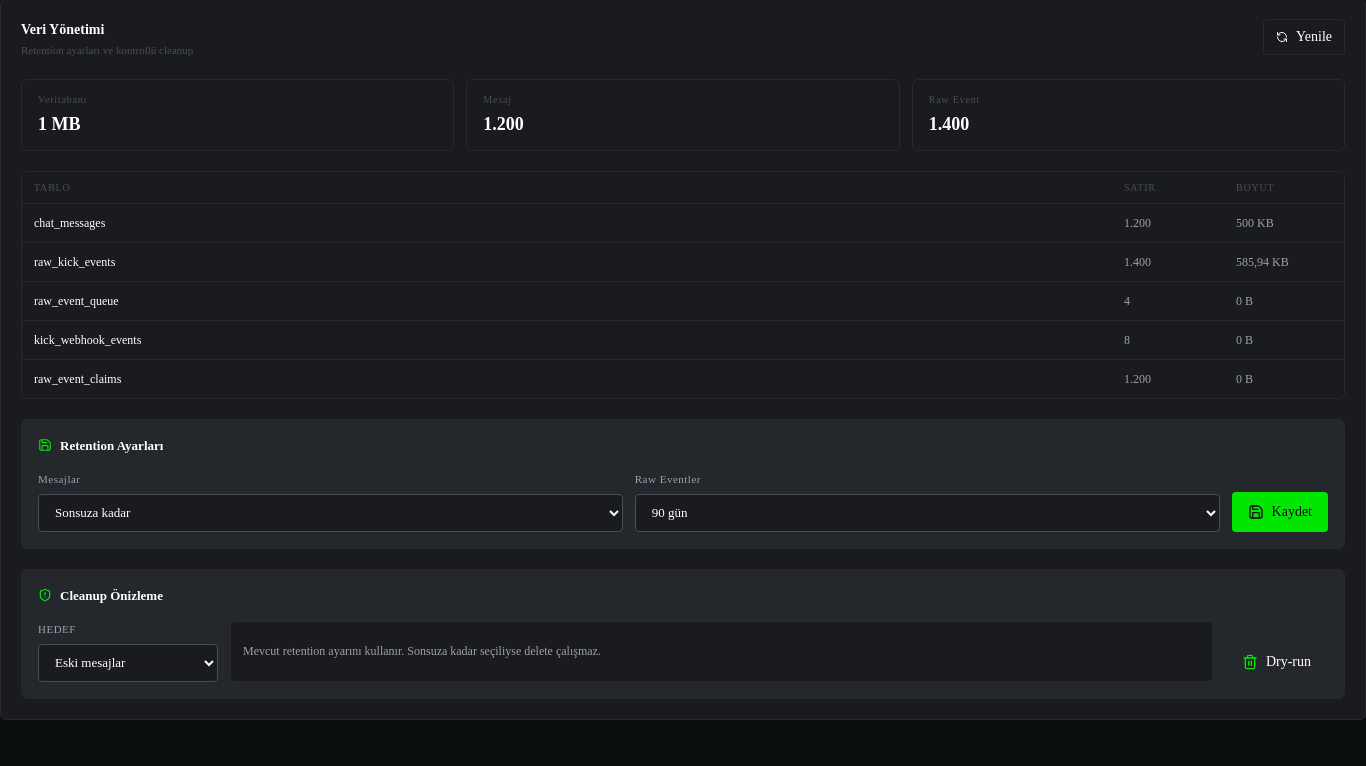
DataManagementPanel › shows dry-run preview and blocks deletion until confirmation matches
Expected: the heading "Veri Yönetimi" is shown, [21,22,104,37]
Step 1. Click the button "Dry-run" → (1276, 662), box [1225,642,1328,682]
(page scrolled)
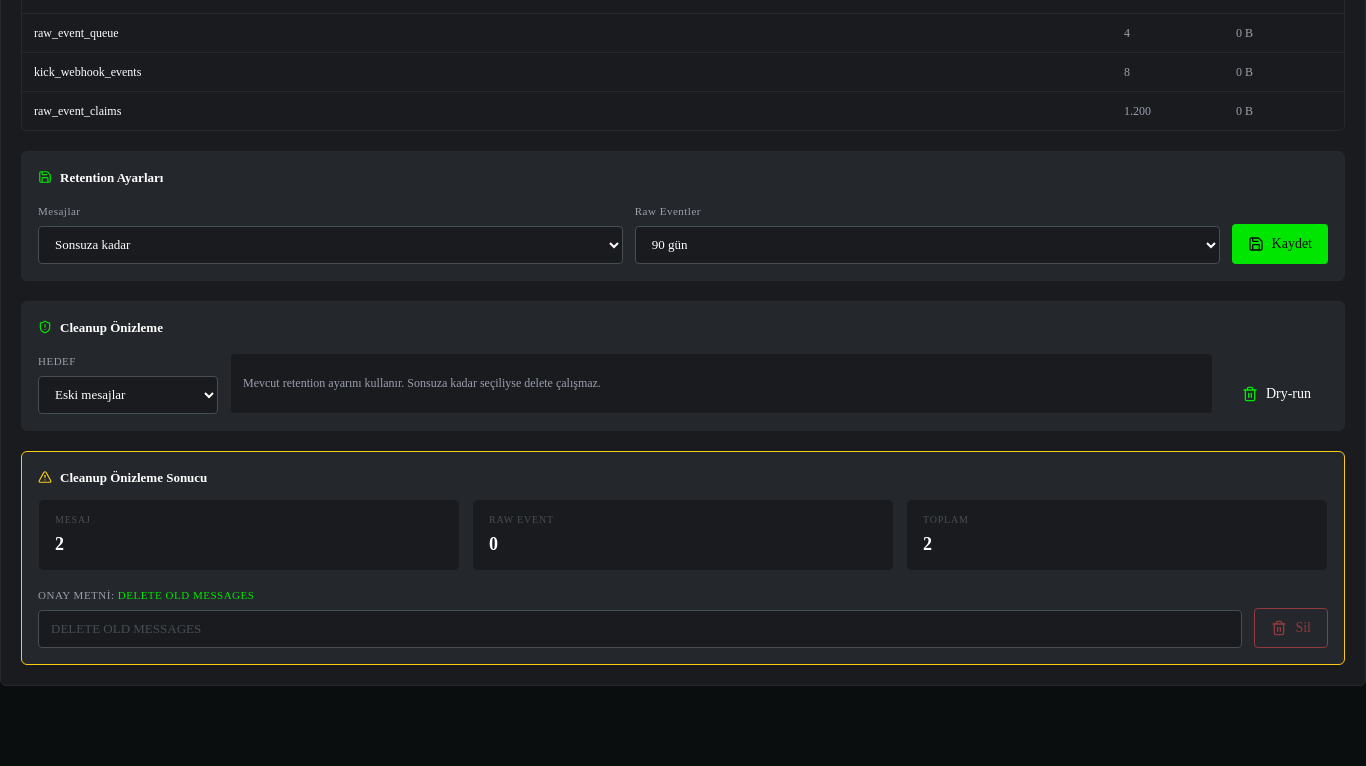
Result: the text "Cleanup Önizleme Sonucu" is shown at [60,468,207,487]
Result: the text "DELETE OLD MESSAGES" is shown at [118,589,254,601]
Result: the button "Sil" is disabled at [1254,608,1328,648]
Step 2. Type "DELETE" into the field with placeholder "DELETE OLD MESSAGES" → (640, 628), box [38,610,1242,648]
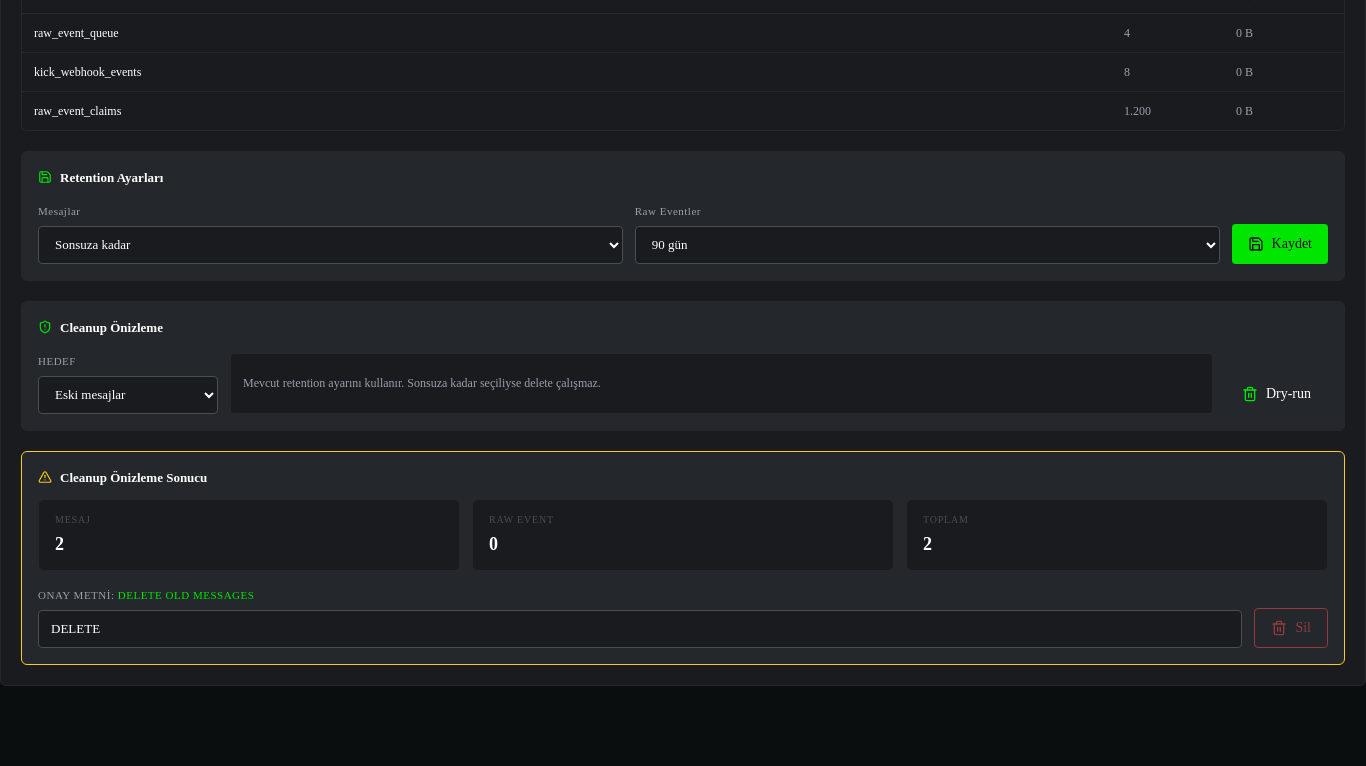
Result: the button "Sil" is disabled at [1254,608,1328,648]
Step 3. Replace the text in the field with placeholder "DELETE OLD MESSAGES" with "DELETE OLD MESSAGES" → (640, 628), box [38,610,1242,648]
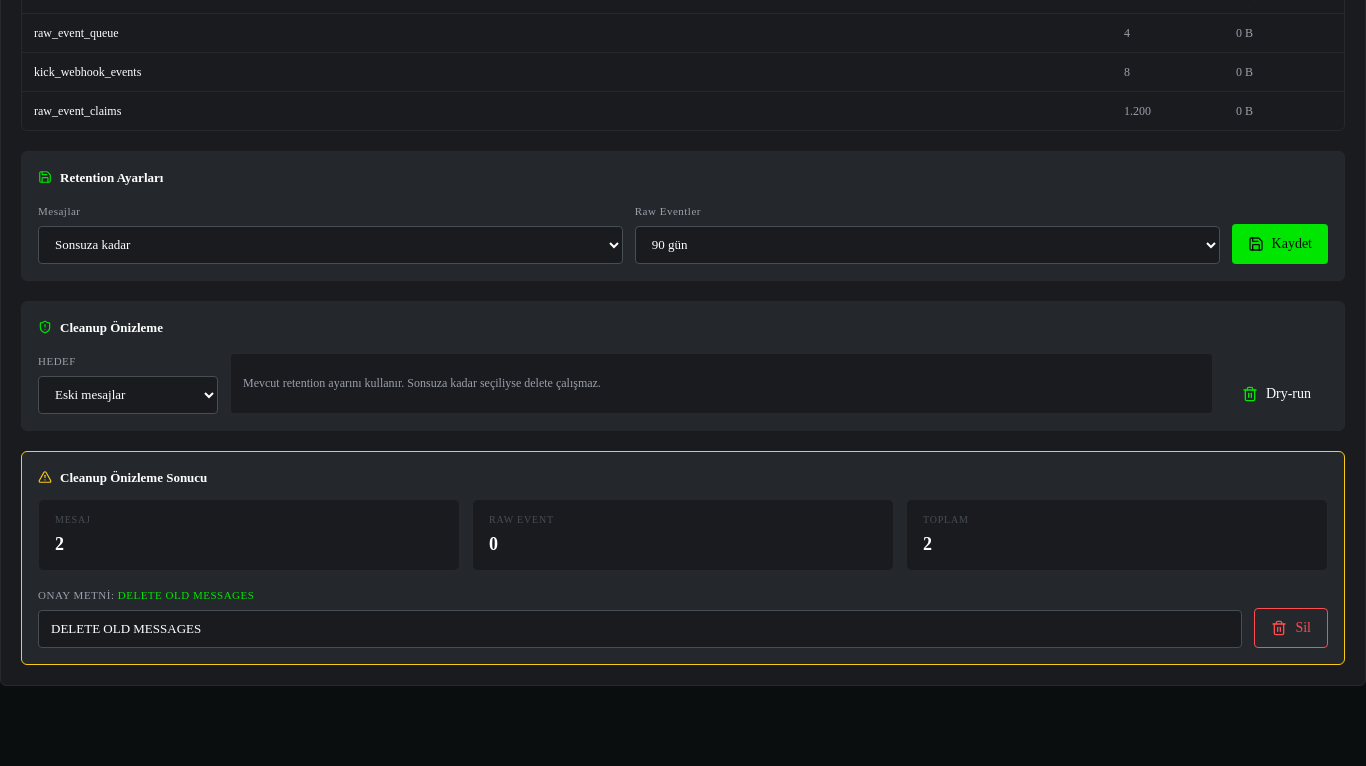
Result: the button "Sil" is enabled at [1254,608,1328,648]
